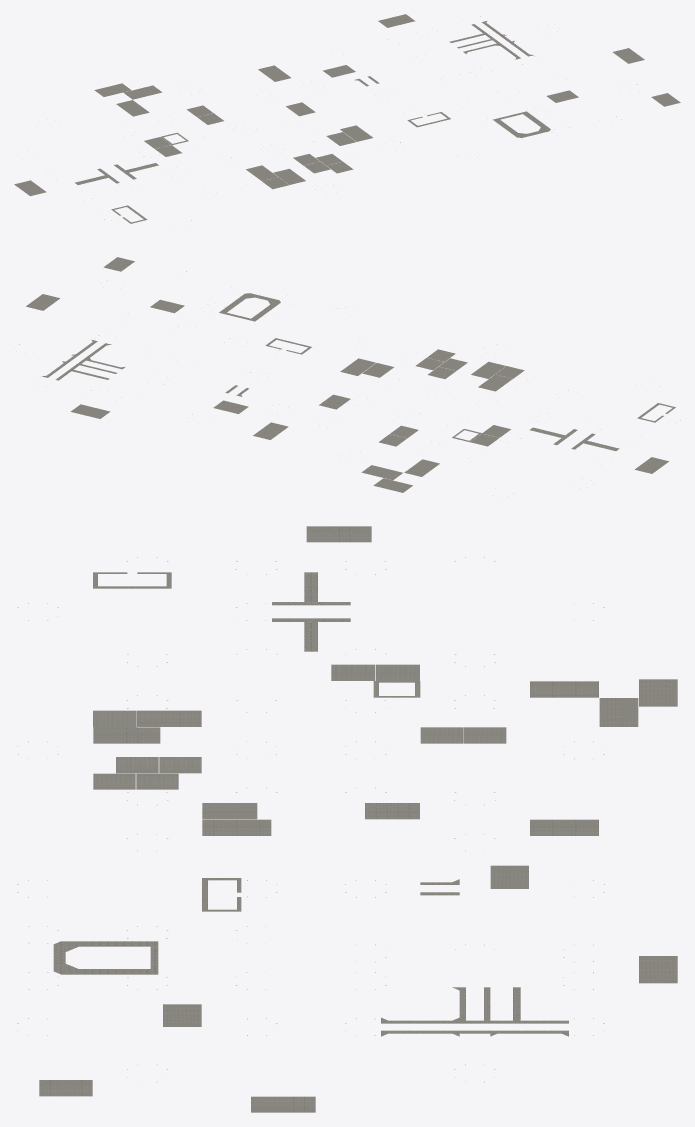
Rendered from metal1.fbx.
The picture shows the model from 3 angles, top to bottom: view 1: azimuth 30°, elevation 25°; view 2: azimuth 150°, elevation 25°; view 3: azimuth 270°, elevation 25°; orthographic projection. The views are drawn at different scales.
Visible parts, largest first — view 1: metal1; view 2: metal1; view 3: metal1.
Part boxes in pixels (box(x1,y1,x2,y2)): metal1: box(14, 14, 680, 223); metal1: box(19, 257, 680, 493); metal1: box(17, 526, 677, 1112).
Size of the model in its own units: 76277 by 7.59 by 36287.
